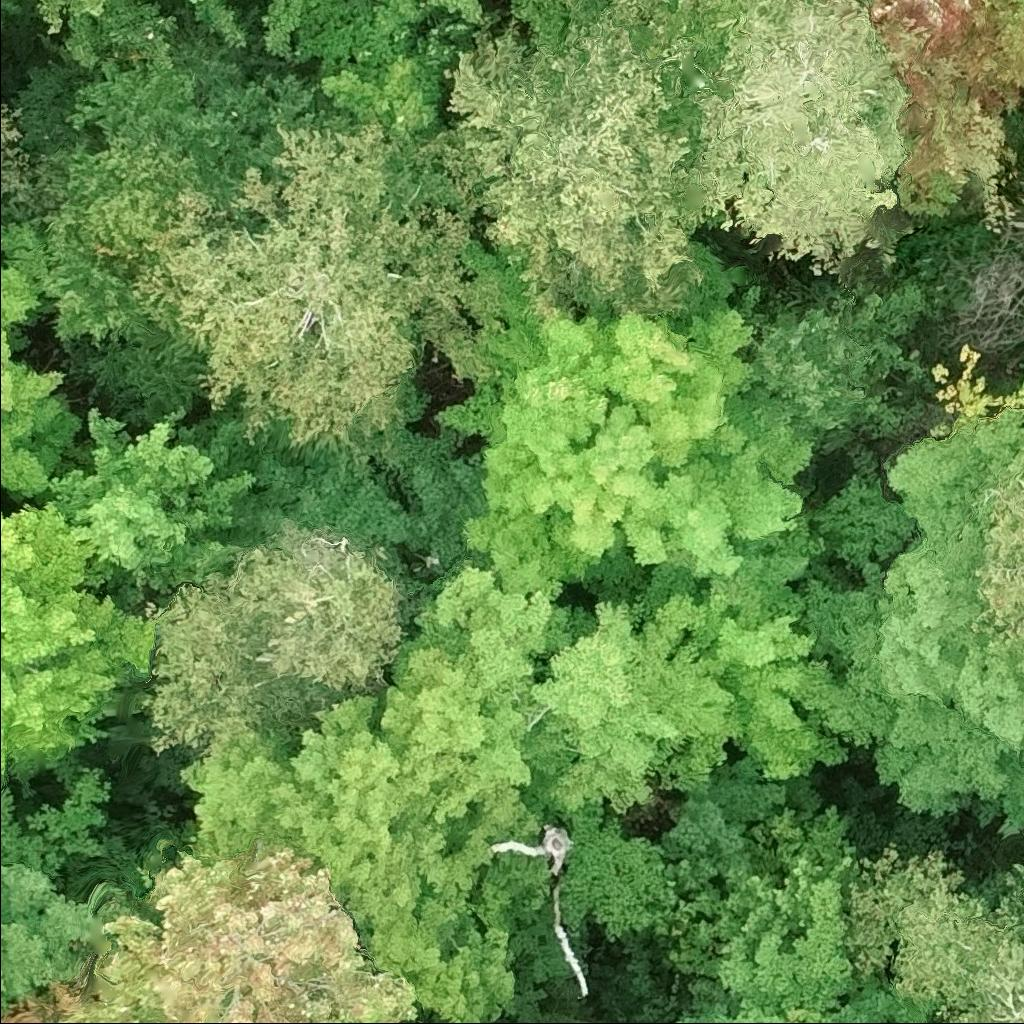crown: (176, 562, 592, 1023), (132, 109, 470, 456), (438, 298, 819, 599), (8, 0, 326, 348), (525, 519, 893, 817), (797, 405, 1023, 839), (441, 15, 709, 319), (636, 0, 903, 275), (65, 832, 418, 1023), (151, 518, 408, 760), (657, 850, 940, 1023), (41, 404, 258, 618), (0, 503, 158, 790), (866, 0, 1023, 233), (846, 838, 1023, 1023), (0, 261, 84, 513), (971, 468, 1023, 638), (36, 0, 126, 68), (181, 0, 247, 59), (560, 0, 664, 32)
